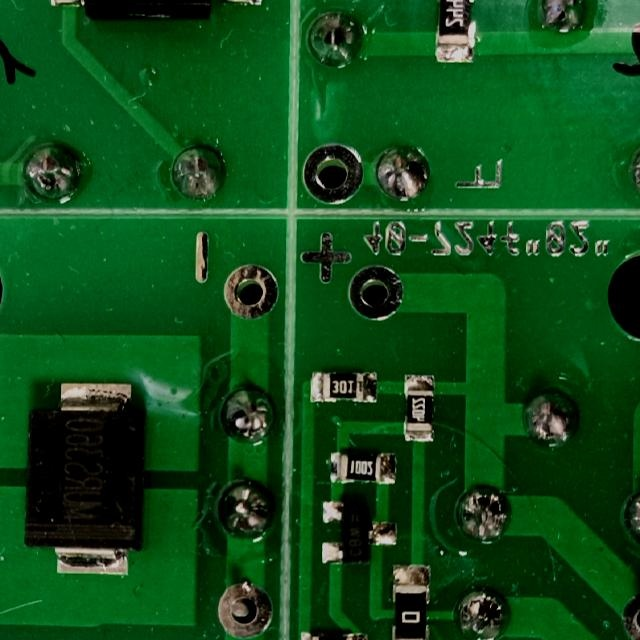chip-resistor: (388, 562, 429, 640), (430, 0, 474, 66), (324, 449, 399, 487), (306, 369, 379, 407), (400, 371, 436, 445)
diode: (22, 377, 144, 579)
transistor: (317, 499, 397, 572)
